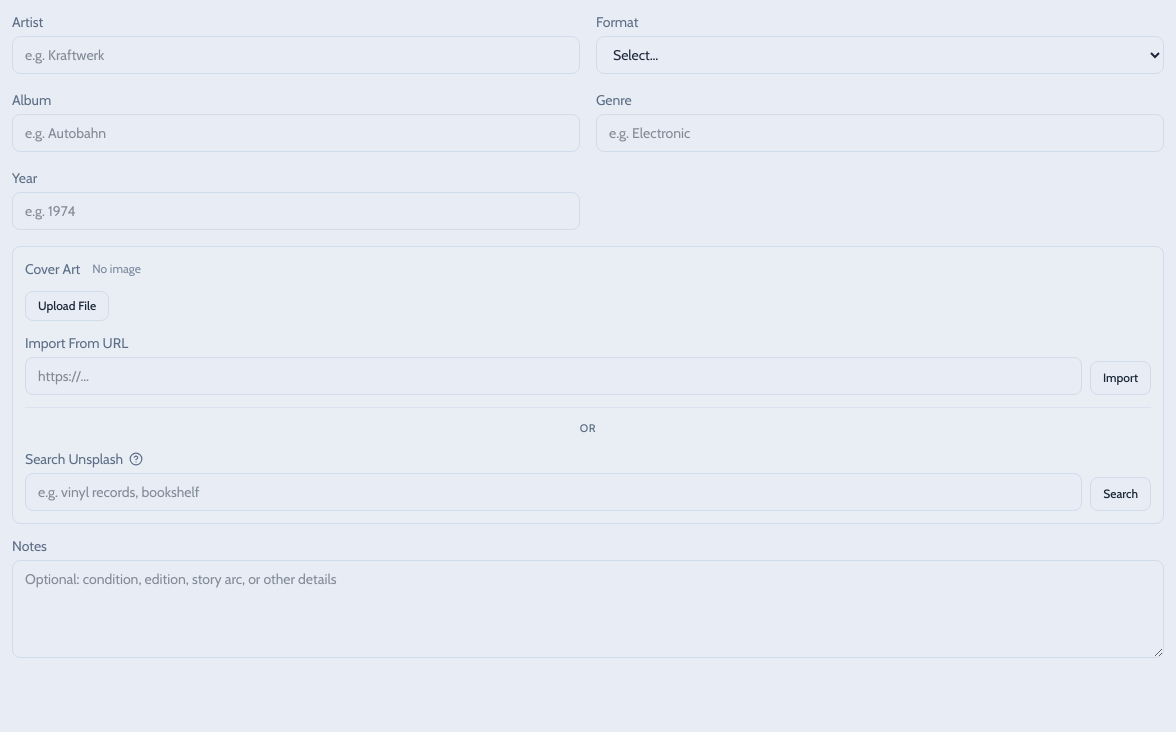
CategoryMetadataFields › updates artist when parent holds slice state
Step 1. Type "ab" into the field with placeholder "e.g. Kraftwerk" → (296, 55), box [12,36,580,74]
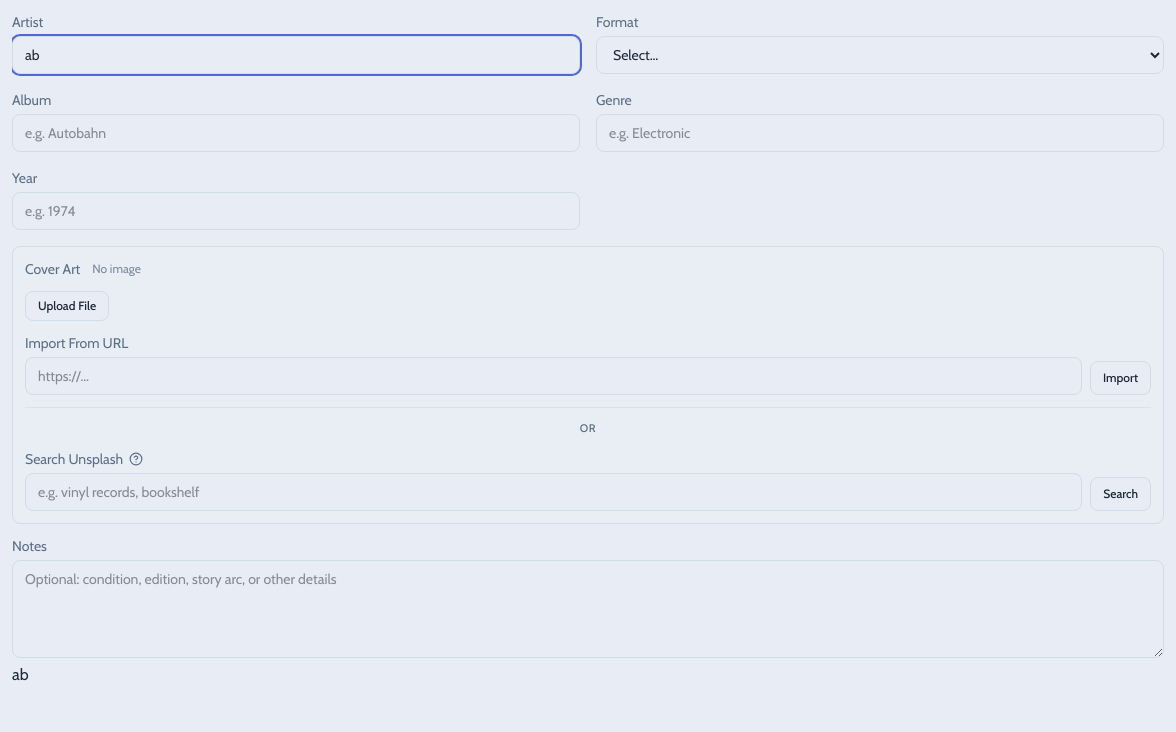
Check: the text with test id "artist-out" reads "ab", box [12,664,29,684]
